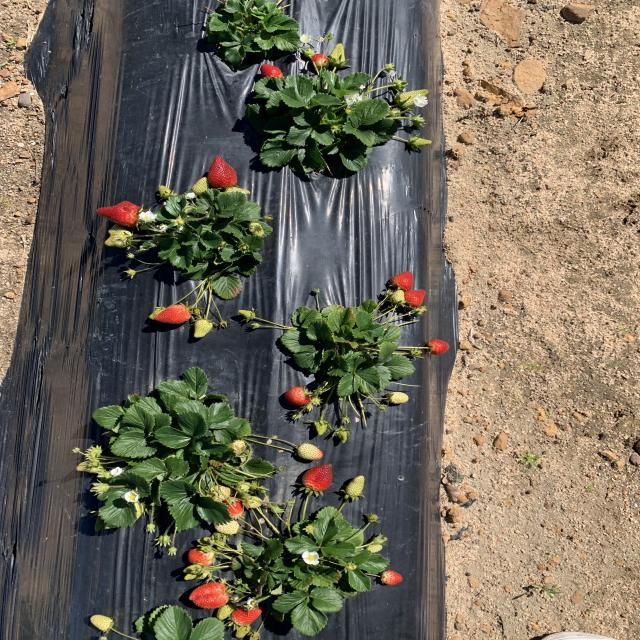unripe: (94, 200, 138, 227), (187, 581, 228, 609), (208, 155, 238, 188), (303, 464, 333, 491), (154, 303, 192, 324), (231, 606, 262, 627), (391, 269, 416, 291), (285, 387, 312, 406), (187, 549, 216, 565), (222, 498, 244, 516), (404, 289, 426, 306), (380, 570, 403, 584), (428, 339, 449, 354), (261, 63, 282, 78), (312, 53, 329, 67)
